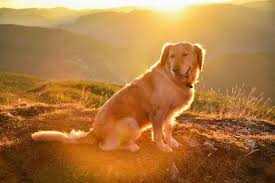Golden Retriever: (26, 25, 216, 158)
